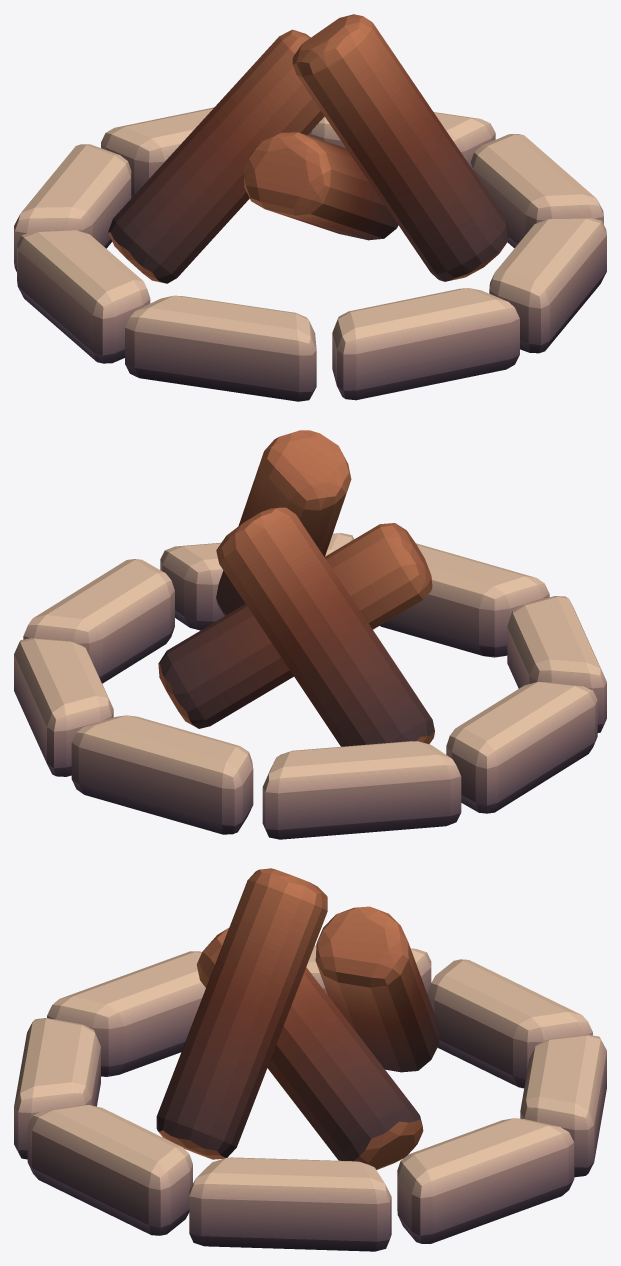
Rendered from campfire.fbx.
The picture shows the model from 3 angles, top to bottom: view 1: azimuth 30°, elevation 25°; view 2: azimuth 150°, elevation 25°; view 3: azimuth 270°, elevation 25°; orthographic projection. The views are drawn at different scales.
Parts seen in each view (by area): view 1: Cylinder.002; view 2: Cylinder.002; view 3: Cylinder.002.
Part boxes in pixels (x1=…): Cylinder.002: x1=14, y1=14, x2=606, y2=401; Cylinder.002: x1=14, y1=430, x2=606, y2=839; Cylinder.002: x1=14, y1=868, x2=606, y2=1251.
Size of the model in its own units: 0.9215 by 0.4728 by 0.9216.
